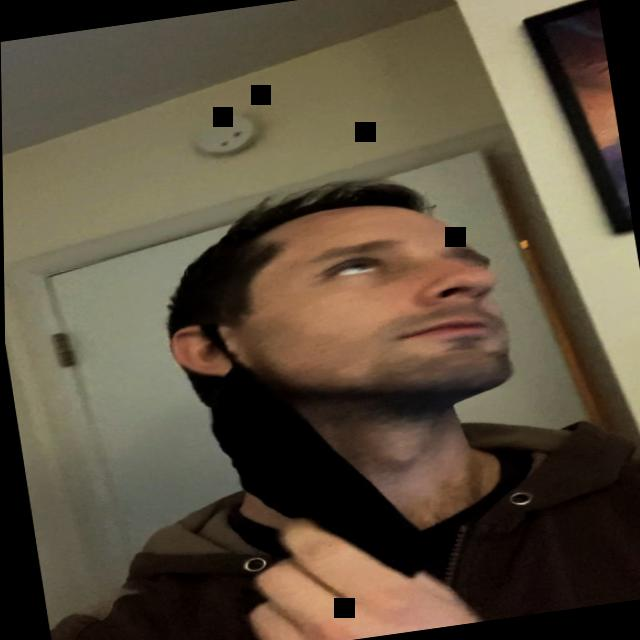NO-Mask: (147, 164, 567, 481)
